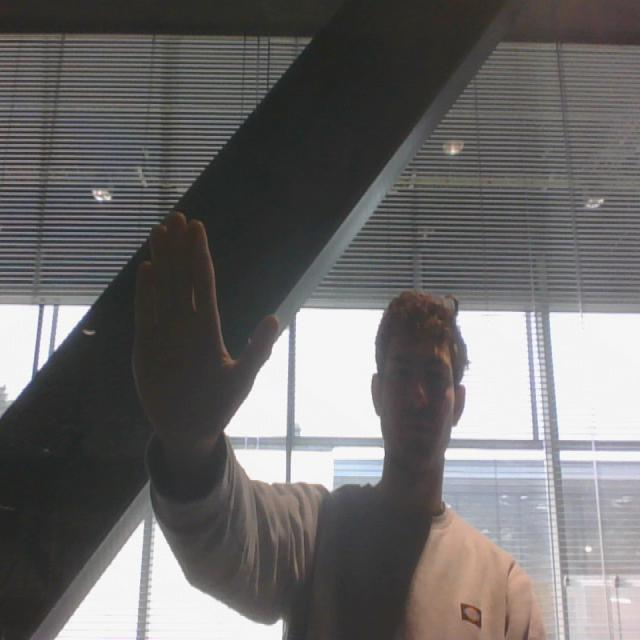backward: (122, 206, 288, 468)
